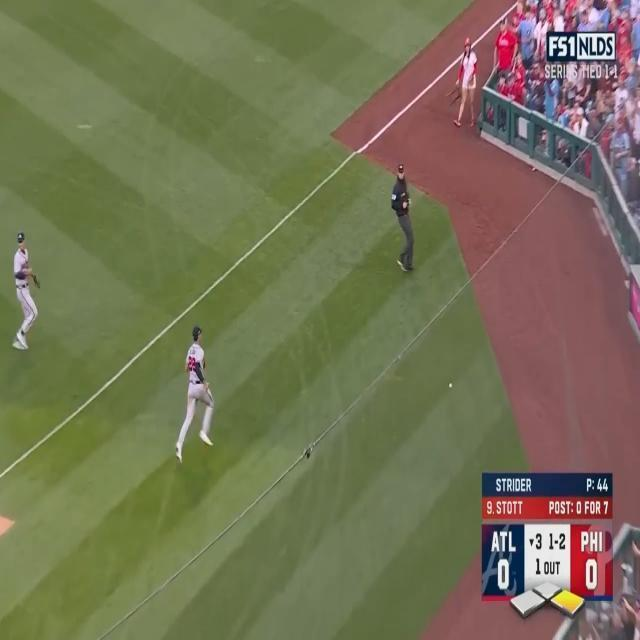ball: (448, 383, 454, 389)
